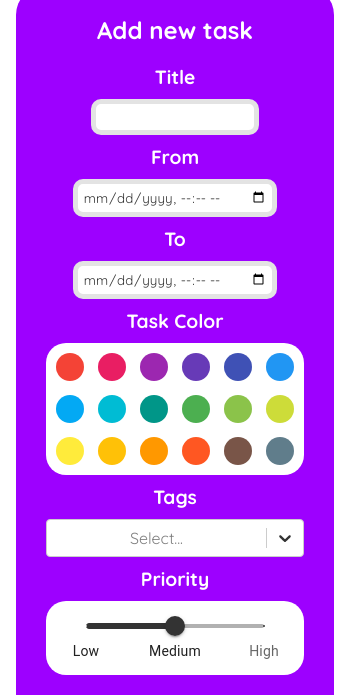
<TaskForm /> › displays error message if title is empty
Clear the field with test id "title" at (175, 117), box [91,99,259,135]
(page scrolled)
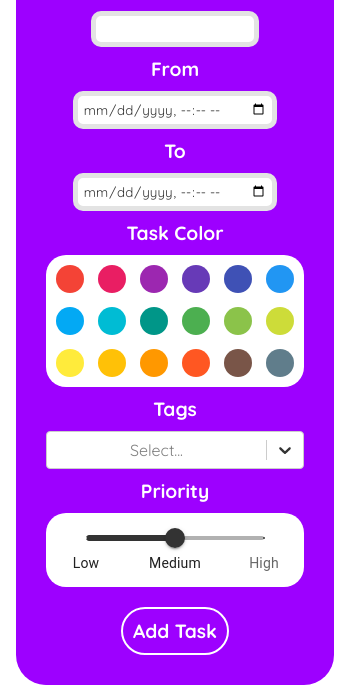
Submit the form from the button "Add Task", box [121,607,229,655]
(page scrolled)
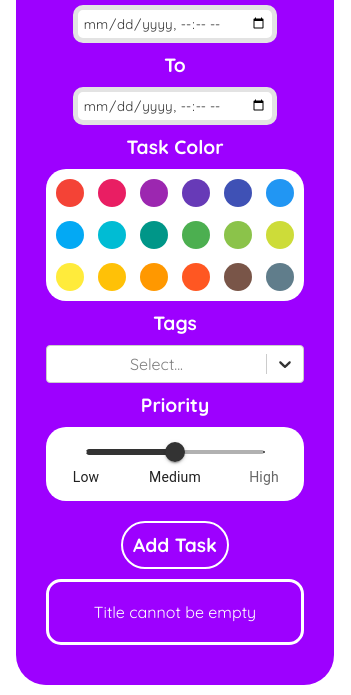
Result: the text "Title cannot be empty" is shown at [46,579,304,645]
